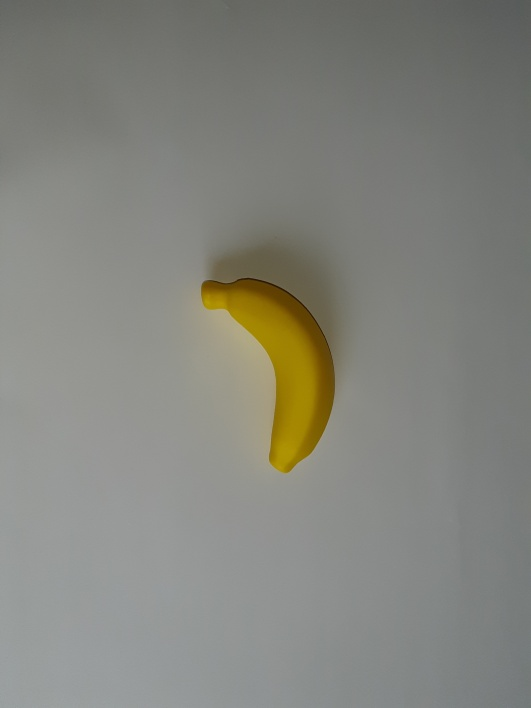banana: (204, 278, 333, 384)
